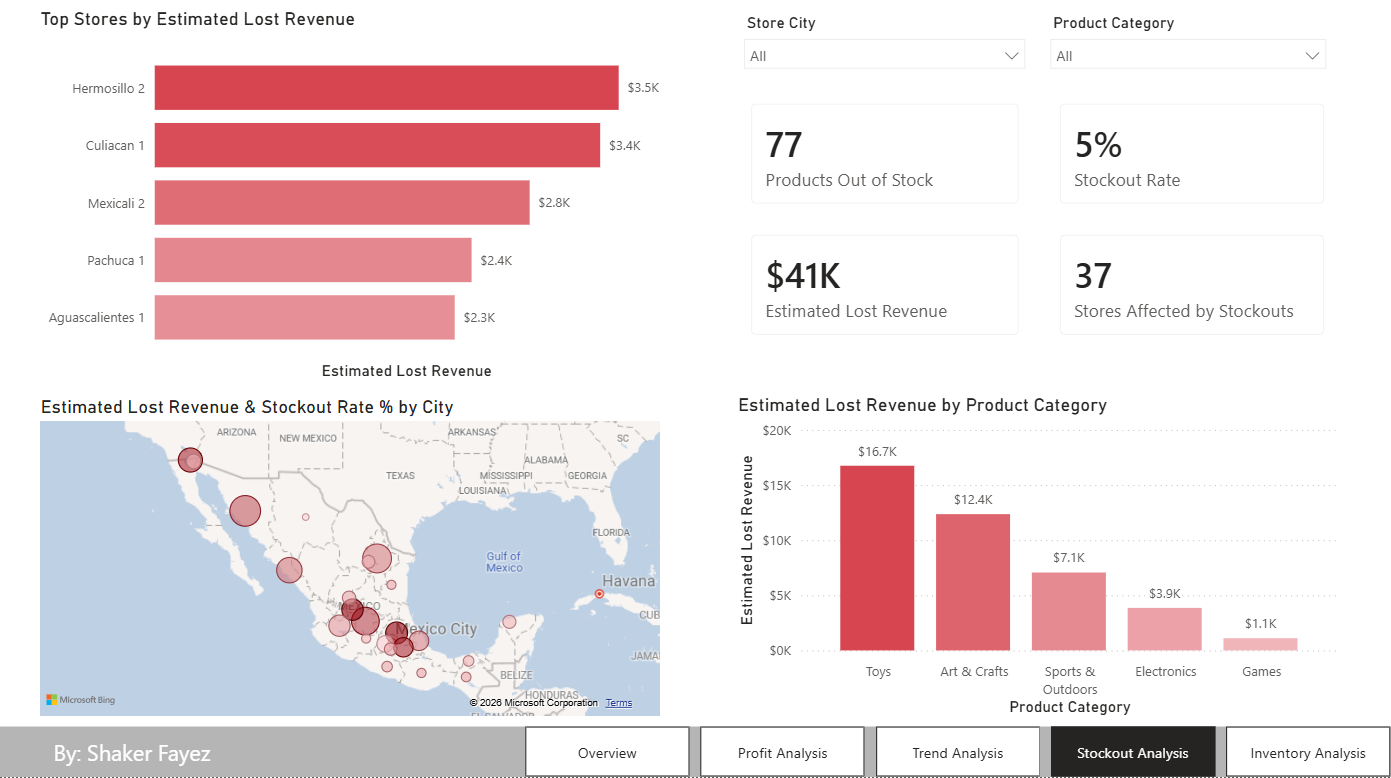

The page's visual inventory and layout, read from the dashboard file:
{"tool":"powerbi","page":{"name":"Stockout Analysis","canvas":[1280,720],"ordinal":3},"visuals":[{"type":"cardVisual","title":"Total Profit","fields":{"Data":["_Measures.Stores Affected by Stockouts"]},"box":[958,204.6,277.7,126.1],"z":0},{"type":"cardVisual","title":"Total Profit","fields":{"Data":["_Measures.Products Out of Stock"]},"box":[673.9,83.5,280.3,126.1],"z":1000},{"type":"cardVisual","title":"Total Profit","fields":{"Data":["_Measures.Estimated Lost Revenue"]},"box":[673.9,204.6,280.3,126.1],"z":2000},{"type":"cardVisual","title":"Total Profit","fields":{"Data":["_Measures.Stockout Rate"]},"box":[958,83.5,277.7,126.1],"z":3000},{"type":"shape","box":[0,673.3,1280.2,46.5],"z":4000},{"type":"pageNavigator","box":[483.5,673.3,796.5,46.5],"z":5000},{"type":"clusteredBarChart","title":"Top Stores by Estimated Lost Revenue","fields":{"Y":["_Measures.Estimated Lost Revenue"],"Category":["stores.Store_Name"]},"box":[33.1,12.7,578.3,346.5],"z":6000},{"type":"map","title":"Estimated Lost Revenue & Stockout Rate  % by  City","fields":{"Size":["_Measures.Estimated Lost Revenue"],"Category":["stores.Store_City"]},"box":[33.3,368.7,578.7,299.6],"z":7000},{"type":"clusteredColumnChart","title":"Estimated Lost Revenue by Product Category","fields":{"Category":["products.Product_Category"],"Y":["_Measures.Estimated Lost Revenue"]},"box":[673.9,368.2,561.8,300.6],"z":8000},{"type":"slicer","fields":{"Values":["stores.Store_Name"]},"box":[673.8,12.7,279.1,62.2],"z":8001},{"type":"slicer","fields":{"Values":["products.Product_Category"]},"box":[955.4,12.7,274.1,62.2],"z":8002}]}

Visuals, with their boxes in screenshot pixels (x1, y1, x2, y2), scaled from the page's 1280x720 canvas onto the 1391x778 screenshot:
"Total Profit" cardVisual: select_region(1041, 221, 1343, 357)
"Total Profit" cardVisual: select_region(732, 90, 1037, 226)
"Total Profit" cardVisual: select_region(732, 221, 1037, 357)
"Total Profit" cardVisual: select_region(1041, 90, 1343, 226)
shape: select_region(0, 728, 1390, 777)
pageNavigator: select_region(525, 728, 1390, 777)
"Top Stores by Estimated Lost Revenue" clusteredBarChart: select_region(36, 14, 664, 388)
"Estimated Lost Revenue & Stockout Rate  % by  City" map: select_region(36, 398, 665, 722)
"Estimated Lost Revenue by Product Category" clusteredColumnChart: select_region(732, 398, 1343, 723)
slicer - stores.Store_Name: select_region(732, 14, 1036, 81)
slicer - products.Product_Category: select_region(1038, 14, 1336, 81)
